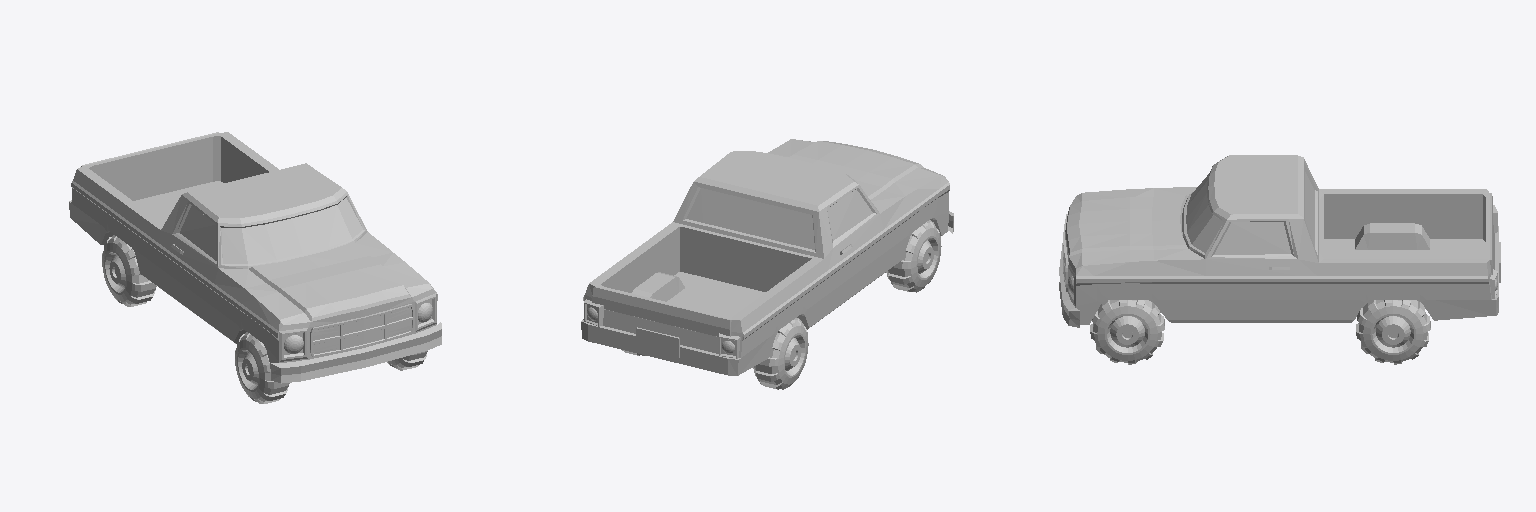
Rendered from Pickup Truck.obj.
The picture shows the model from 3 angles: view 1: azimuth 30°, elevation 25°; view 2: azimuth 150°, elevation 25°; view 3: azimuth 270°, elevation 25°; orthographic projection.
Visible parts, largest first — view 1: obj4, obj1, obj2, obj5; view 2: obj4, obj1, obj2; view 3: obj4, obj1, obj3.
Part boxes in pixels (left/top/right/bottom): obj4: left=69, top=132, right=441, bottom=383; obj1: left=102, top=235, right=156, bottom=306; obj2: left=235, top=332, right=289, bottom=403; obj5: left=284, top=303, right=432, bottom=353; obj4: left=581, top=139, right=953, bottom=375; obj1: left=622, top=318, right=808, bottom=389; obj2: left=886, top=220, right=941, bottom=292; obj4: left=1059, top=155, right=1500, bottom=327; obj1: left=1356, top=300, right=1430, bottom=364; obj3: left=1090, top=300, right=1164, bottom=364.
Bounding box in the file's own units: 2.31 × 1.85 × 5.18.